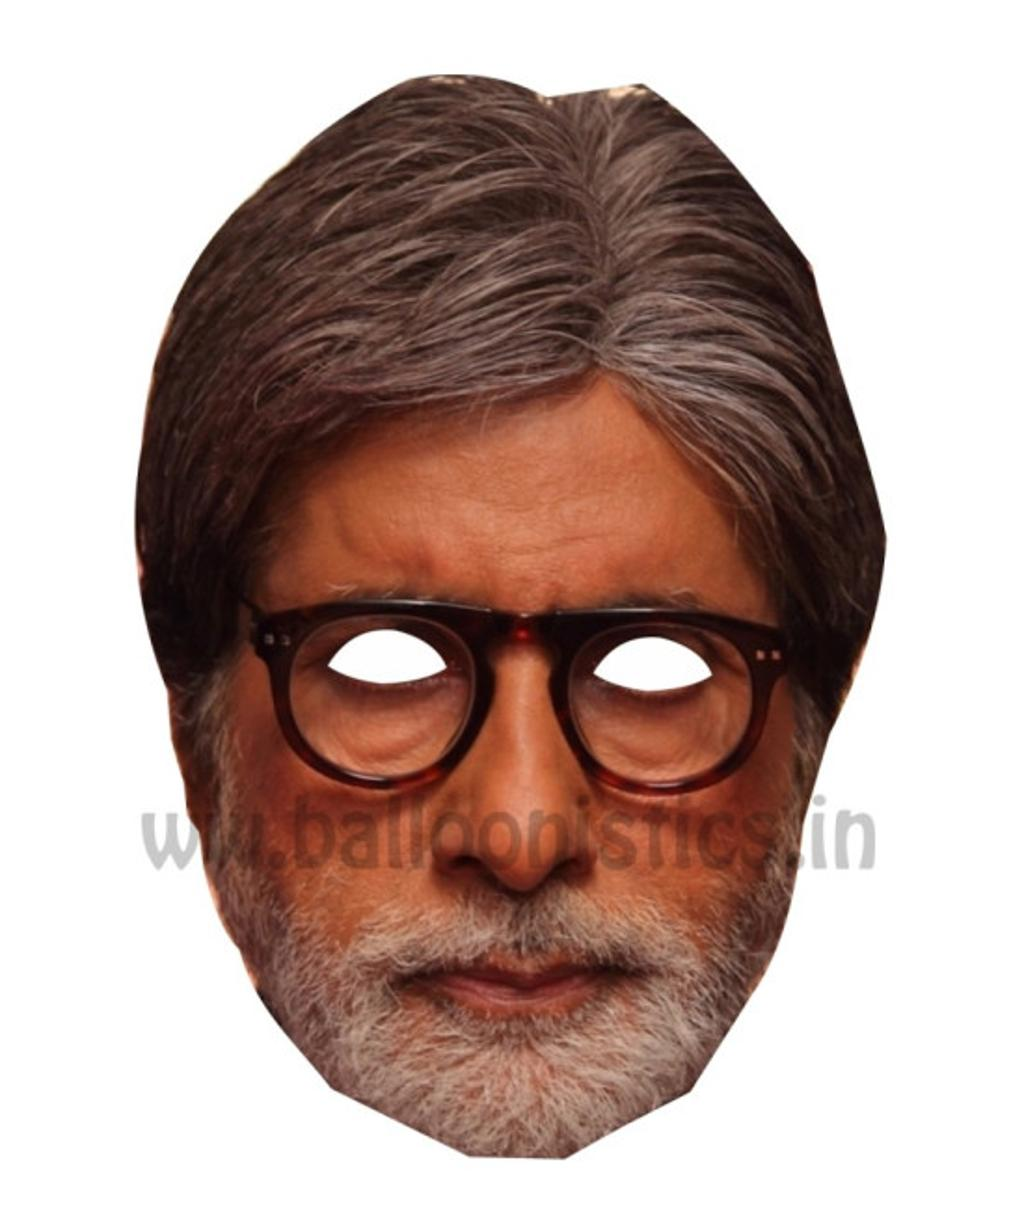face: (210, 383, 799, 1156)
